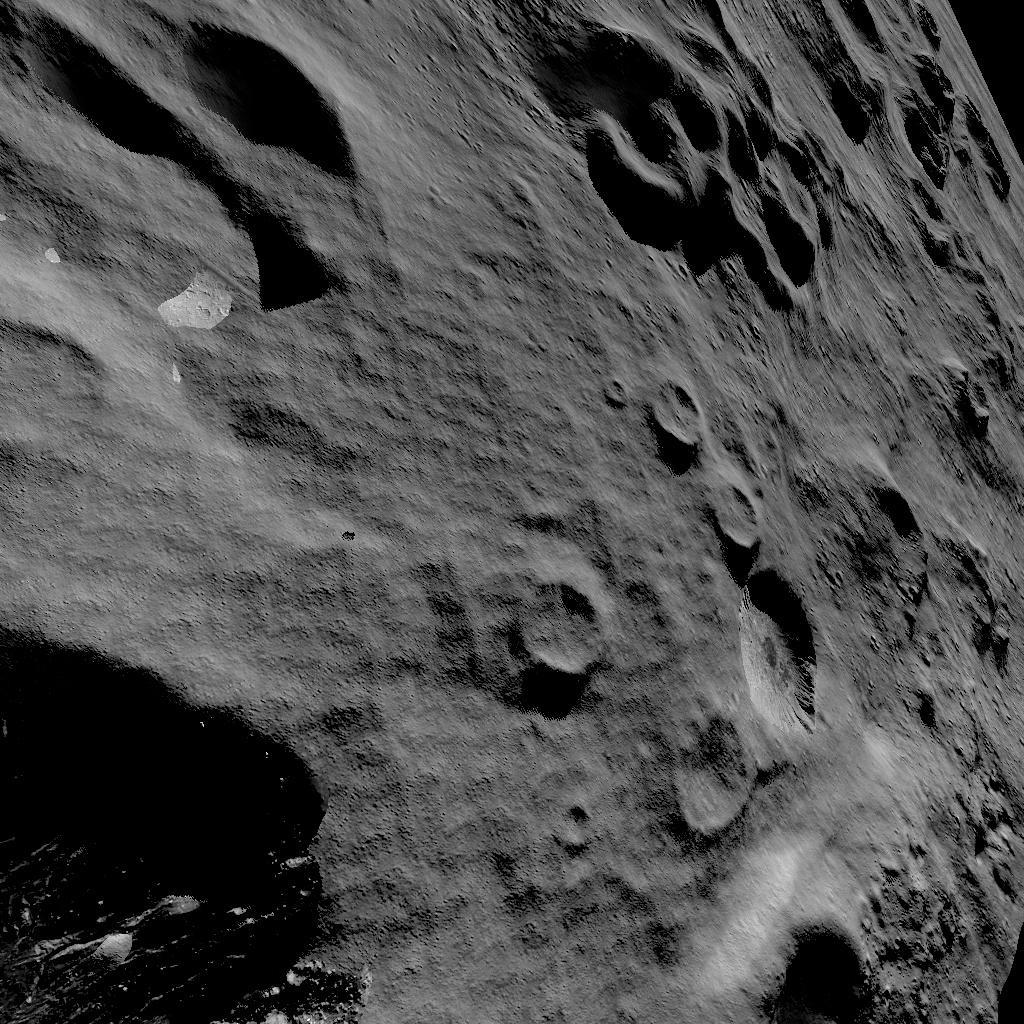Crater: (3, 613, 387, 1024), (1, 0, 389, 321), (560, 21, 876, 297), (652, 566, 834, 834), (860, 470, 957, 640), (897, 0, 983, 178), (787, 926, 927, 1024), (510, 568, 608, 698), (646, 377, 718, 457), (710, 480, 773, 553)
Plan surface: (3, 328, 477, 578), (403, 0, 549, 315)
